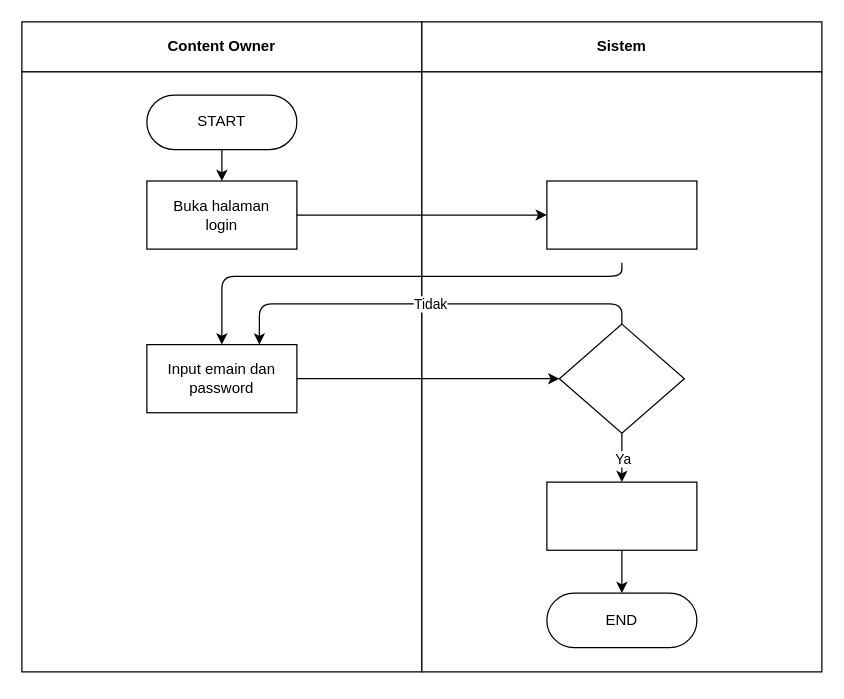
Image size: 844x699. Some labels were removed from this diagram. The shapes that lost their labels are listed below. From the top down, each one's box as (x1, y1, x2, y2) in pixels, then its label:
(546, 180, 697, 249): Tampilkan halaman login
(558, 323, 684, 433): Data benar?
(546, 481, 697, 550): Tampilkan halaman Dashboard
